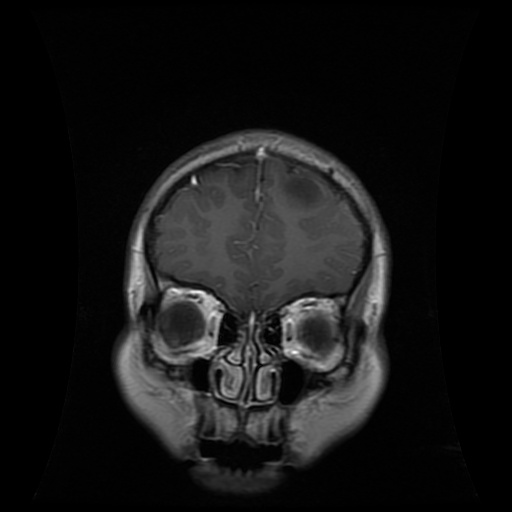glioma: (282, 171, 327, 209)
